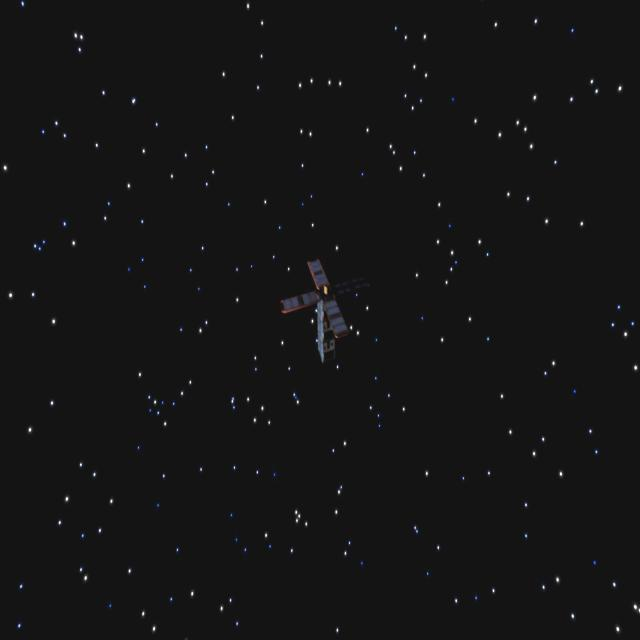medium_debris: (276, 251, 360, 365)
